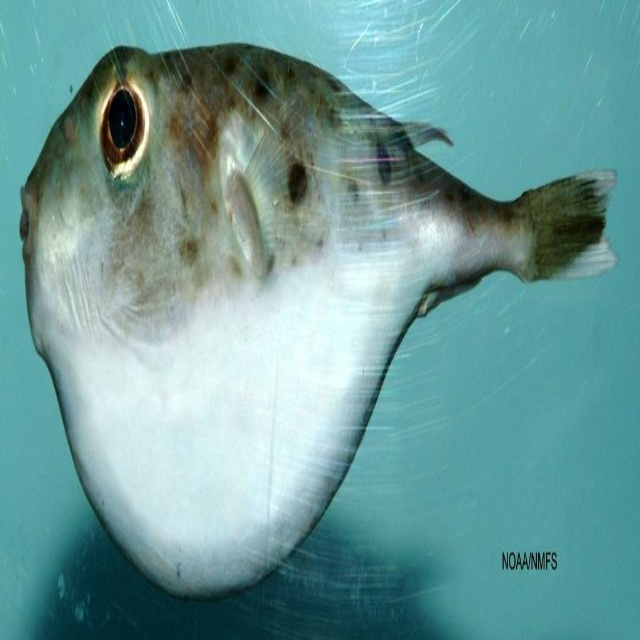Fish: (21, 34, 618, 605)
